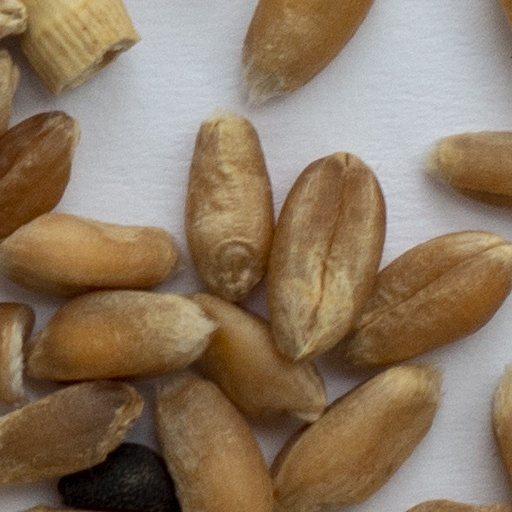Convolvulus-poly: (58, 444, 177, 511)
Peel-poly: (20, 0, 137, 93)
Wheat-grain-damaged-poly: (0, 304, 38, 403)
